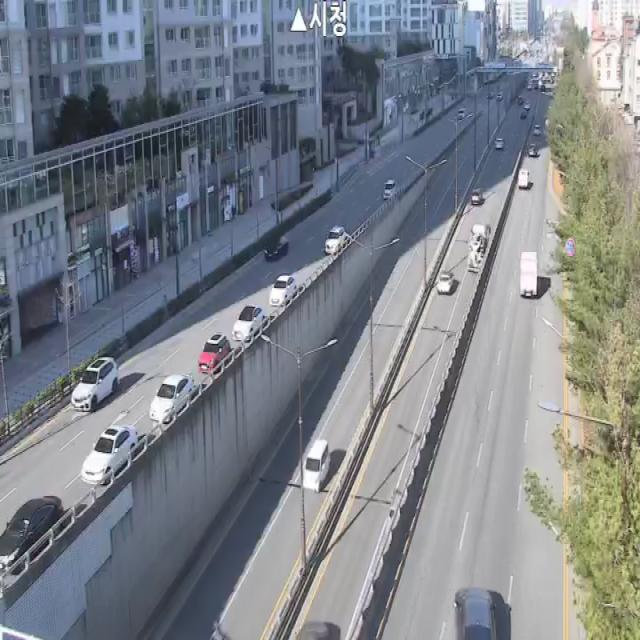Car: (0, 496, 63, 576), (81, 424, 137, 486), (71, 357, 118, 411), (452, 587, 497, 640), (149, 372, 194, 424), (303, 439, 331, 493), (198, 333, 230, 376), (232, 304, 266, 342), (269, 276, 297, 306), (265, 236, 288, 262), (325, 226, 345, 255), (437, 271, 454, 294), (383, 179, 398, 199), (518, 169, 529, 188), (471, 189, 482, 205), (528, 144, 537, 156), (495, 138, 504, 149), (534, 125, 541, 136)
Truck: (467, 224, 491, 274), (520, 251, 537, 298)
